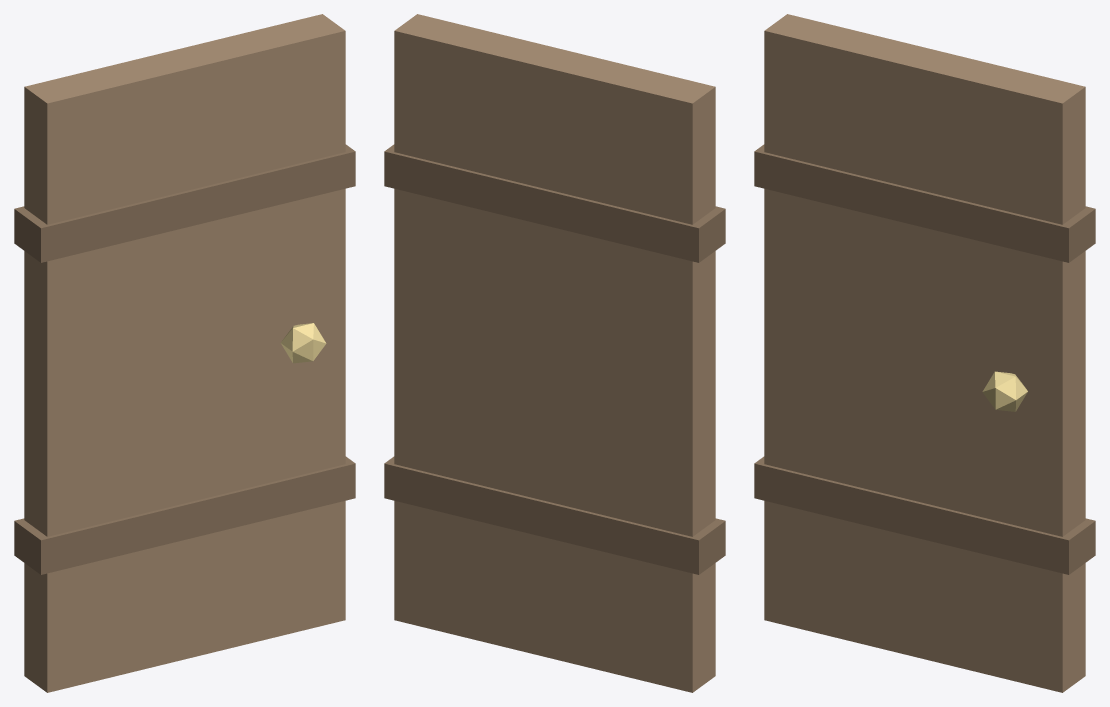
Rendered from door.glb.
The picture shows the model from 3 angles, left to right: view 1: azimuth 30°, elevation 25°; view 2: azimuth 150°, elevation 25°; view 3: azimuth 330°, elevation 25°; orthographic projection.
Visible parts, largest first — view 1: door; view 2: door; view 3: door.
Part boxes in pixels (x1,y1,x2,y2): door: (14,14,355,692); door: (384,14,725,692); door: (754,14,1095,692).
Bounding box in the file's own units: 0.95 × 1.7 × 0.221.
